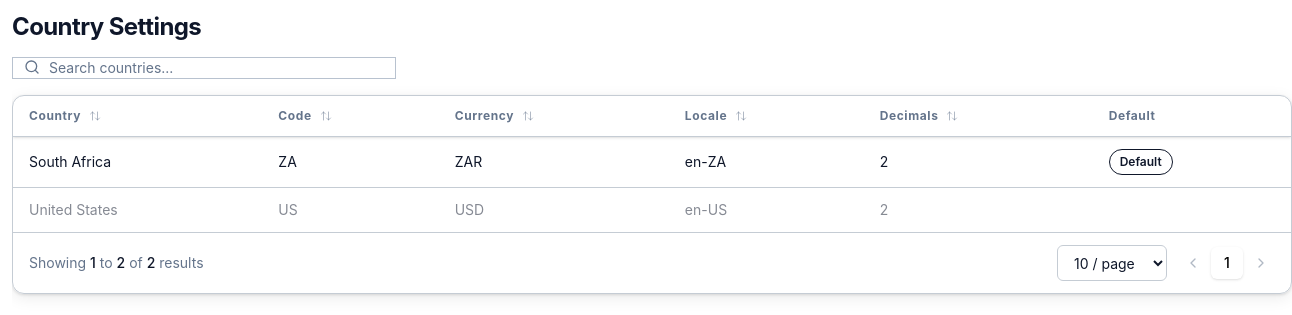
Test: CountrySettingsPage › search filtering › shows every country again once the search text is cleared
Type "South" into the field with placeholder "Search countries..." at (204, 68), box left=12, top=57, right=396, bottom=79
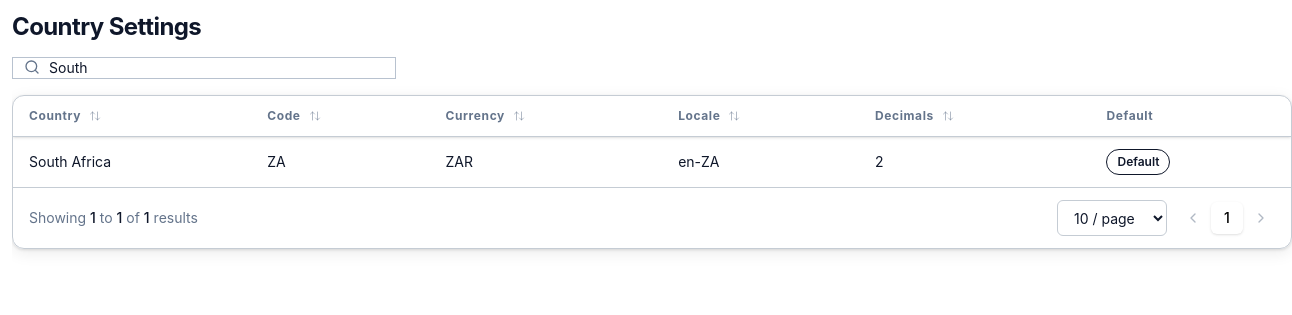
Clear the field with placeholder "Search countries..." at (204, 68), box left=12, top=57, right=396, bottom=79
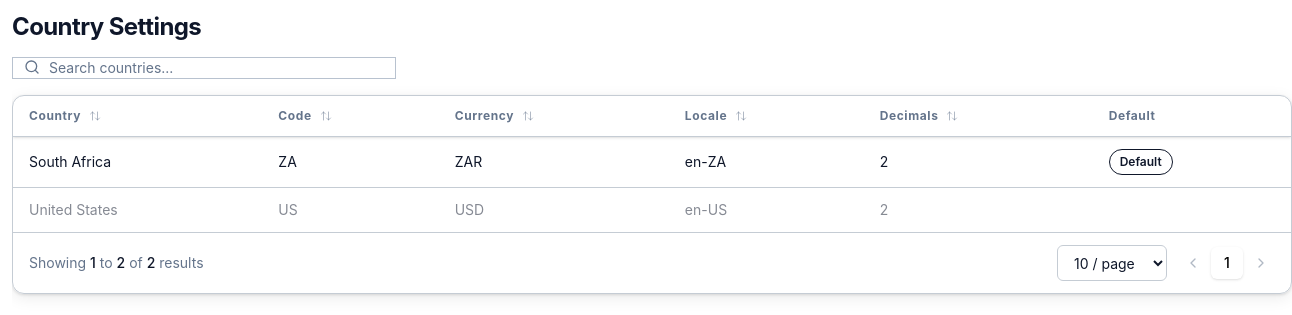
Check: the text "South Africa" is shown, box left=29, top=153, right=111, bottom=170
Check: the text "United States" is shown, box left=29, top=201, right=118, bottom=218
